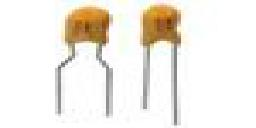Electrolytic-Capacitor: (51, 5, 120, 122), (137, 1, 185, 127)
